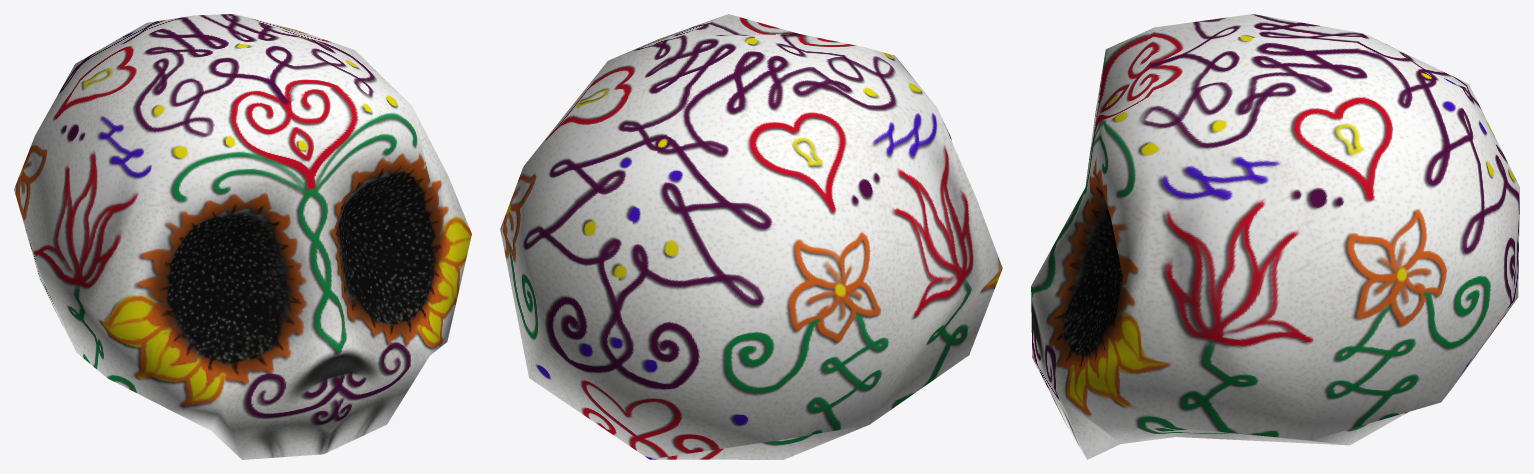
File: SkullB.fbx
The picture shows the model from 3 angles, left to right: view 1: azimuth 30°, elevation 25°; view 2: azimuth 150°, elevation 25°; view 3: azimuth 270°, elevation 25°; orthographic projection. The views are drawn at different scales.
Parts seen in each view (by area): view 1: SkullB; view 2: SkullB; view 3: SkullB.
Boxes of the visible parts, x1,y1,x2,y2 form: SkullB: (14, 14, 471, 459); SkullB: (500, 14, 1002, 459); SkullB: (1031, 14, 1519, 459).
Size of the model in its own units: 11.57 by 10.54 by 11.98.
